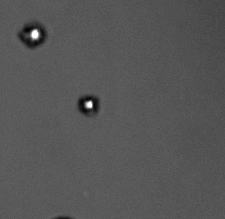Living Cell: (20, 22, 46, 49), (78, 94, 100, 116)
